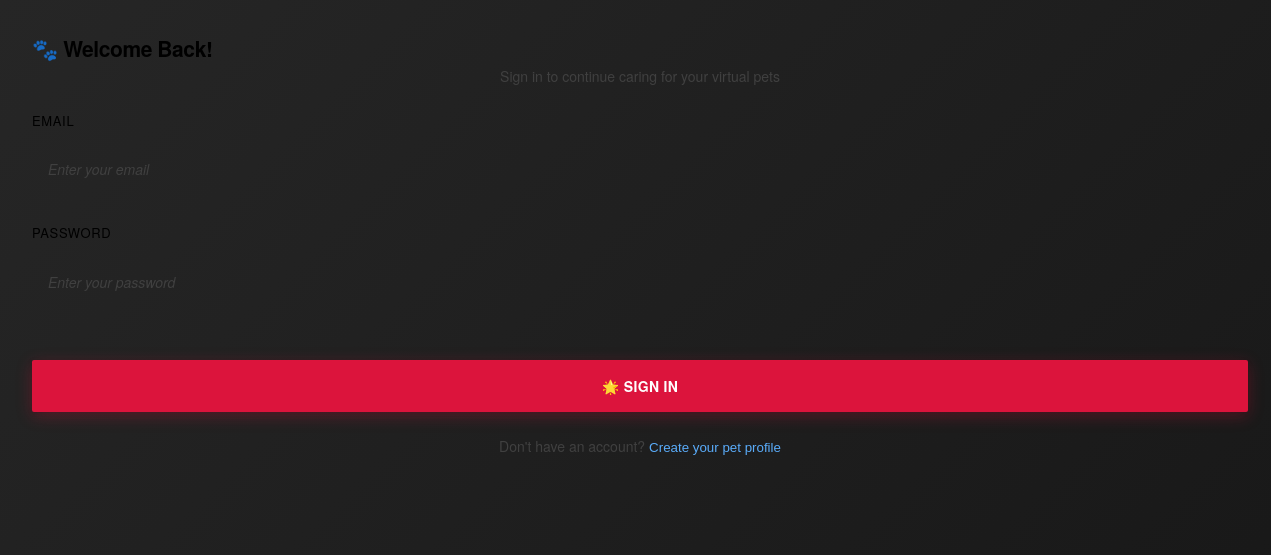
Scenario: LoginForm › re-enables submit button after login failure
Type "test@example.com" into the field labelled "Email" at (640, 169), box x1=32 y1=147 x2=1248 y2=191
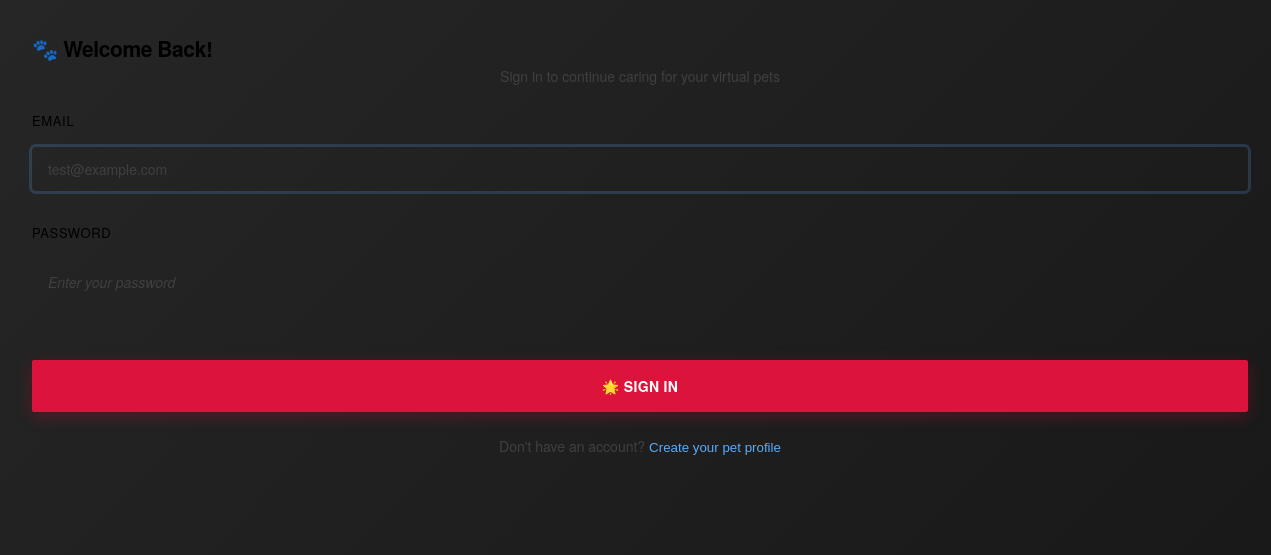
Type "password123" into the password field labelled "Password" at (640, 282), box x1=32 y1=260 x2=1248 y2=304
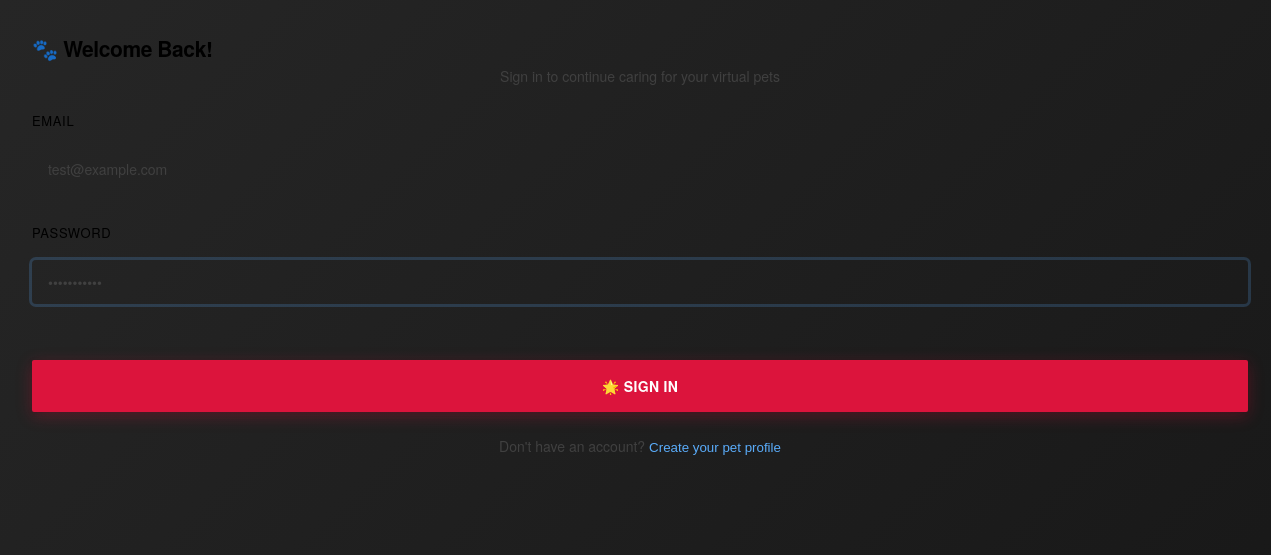
Click the button "🌟 Sign In" at (640, 386), box x1=32 y1=360 x2=1248 y2=412
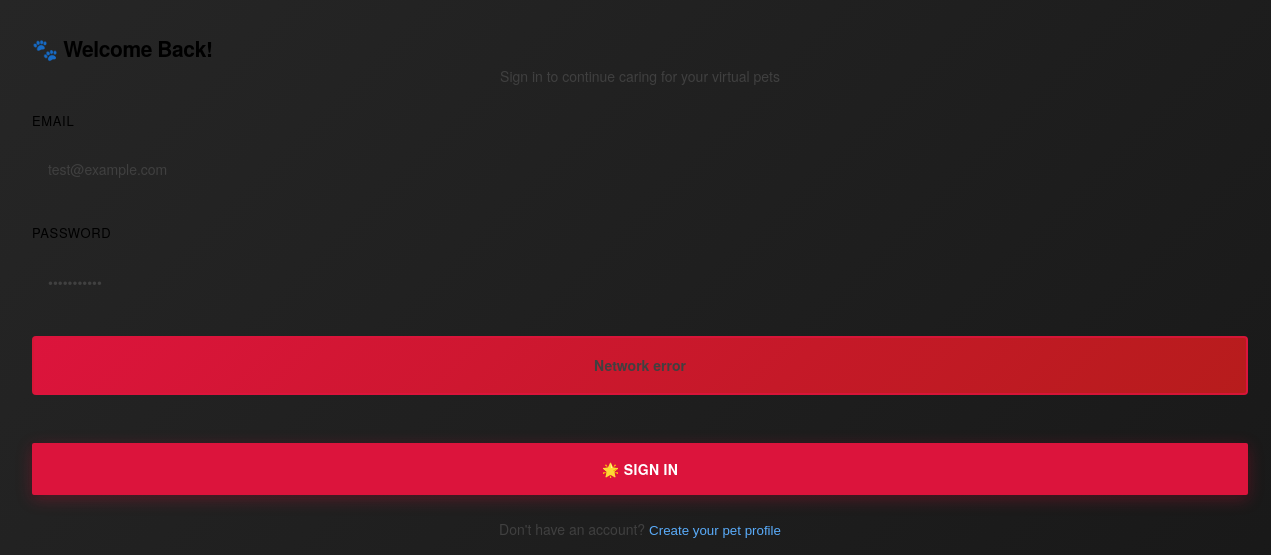
Expected: the button "🌟 Sign In" is enabled, x1=32 y1=443 x2=1248 y2=495
Result: the message "Network error" is shown at x1=32 y1=336 x2=1248 y2=395
